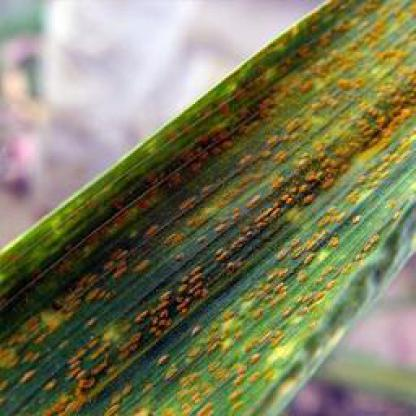Wheat-Yellow-rust: (94, 178, 282, 371), (0, 264, 78, 416), (181, 115, 324, 166), (288, 42, 394, 105), (339, 123, 413, 204), (101, 380, 236, 414), (294, 185, 332, 304), (328, 4, 415, 34), (342, 218, 382, 265), (236, 69, 276, 98)
